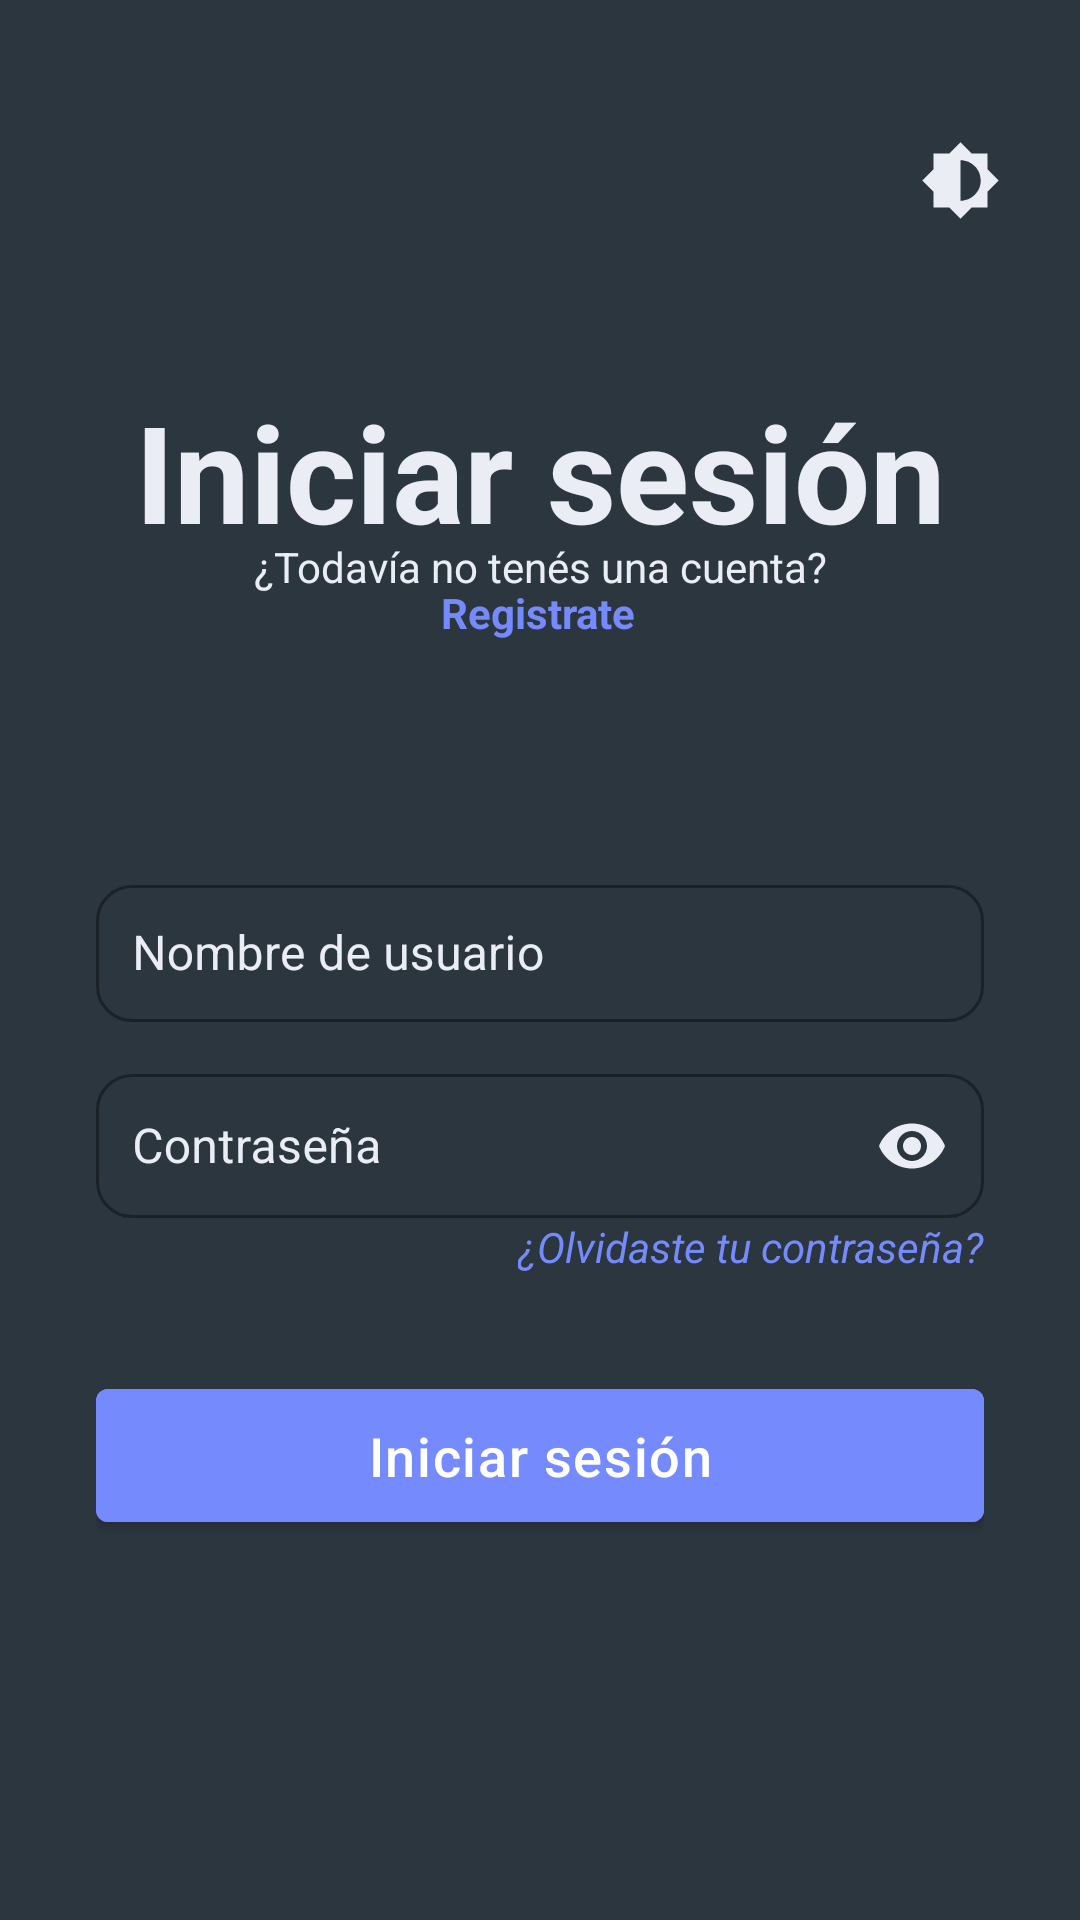

Icons on this 1080x1920 Android screen, each with its box as [left=x1, top=y1, right=x2, bottom=y2]:
Cambiar tema: [left=922, top=142, right=999, bottom=219]
